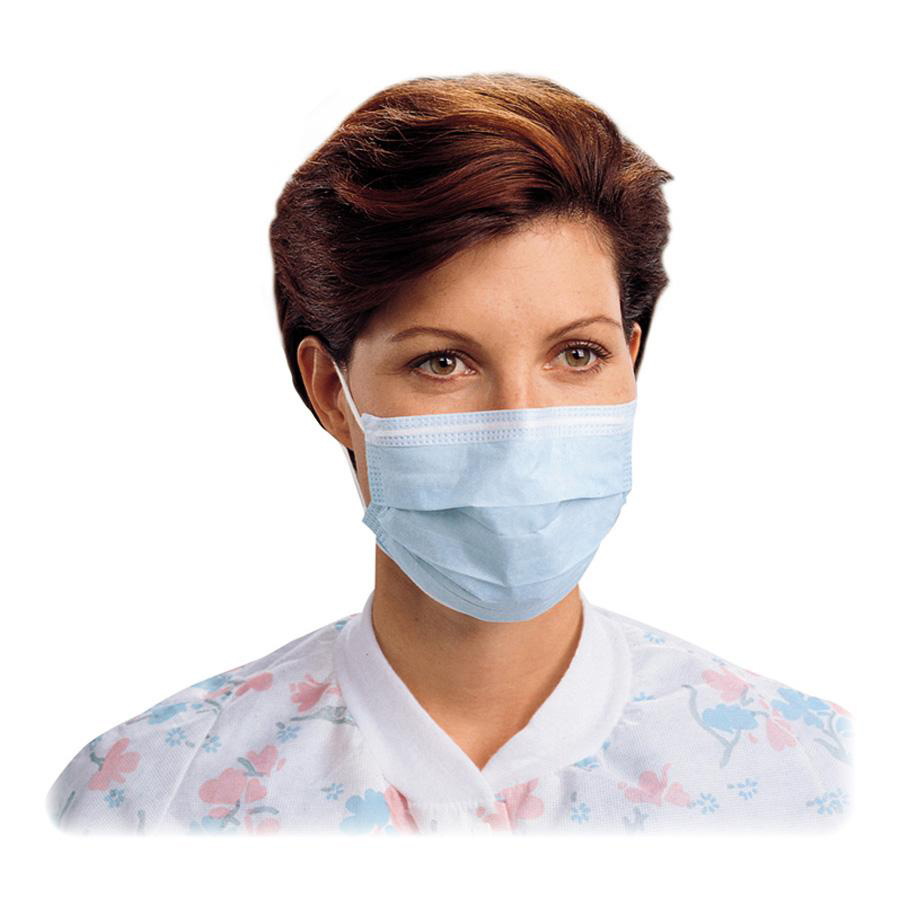mask: (375, 411, 629, 619)
